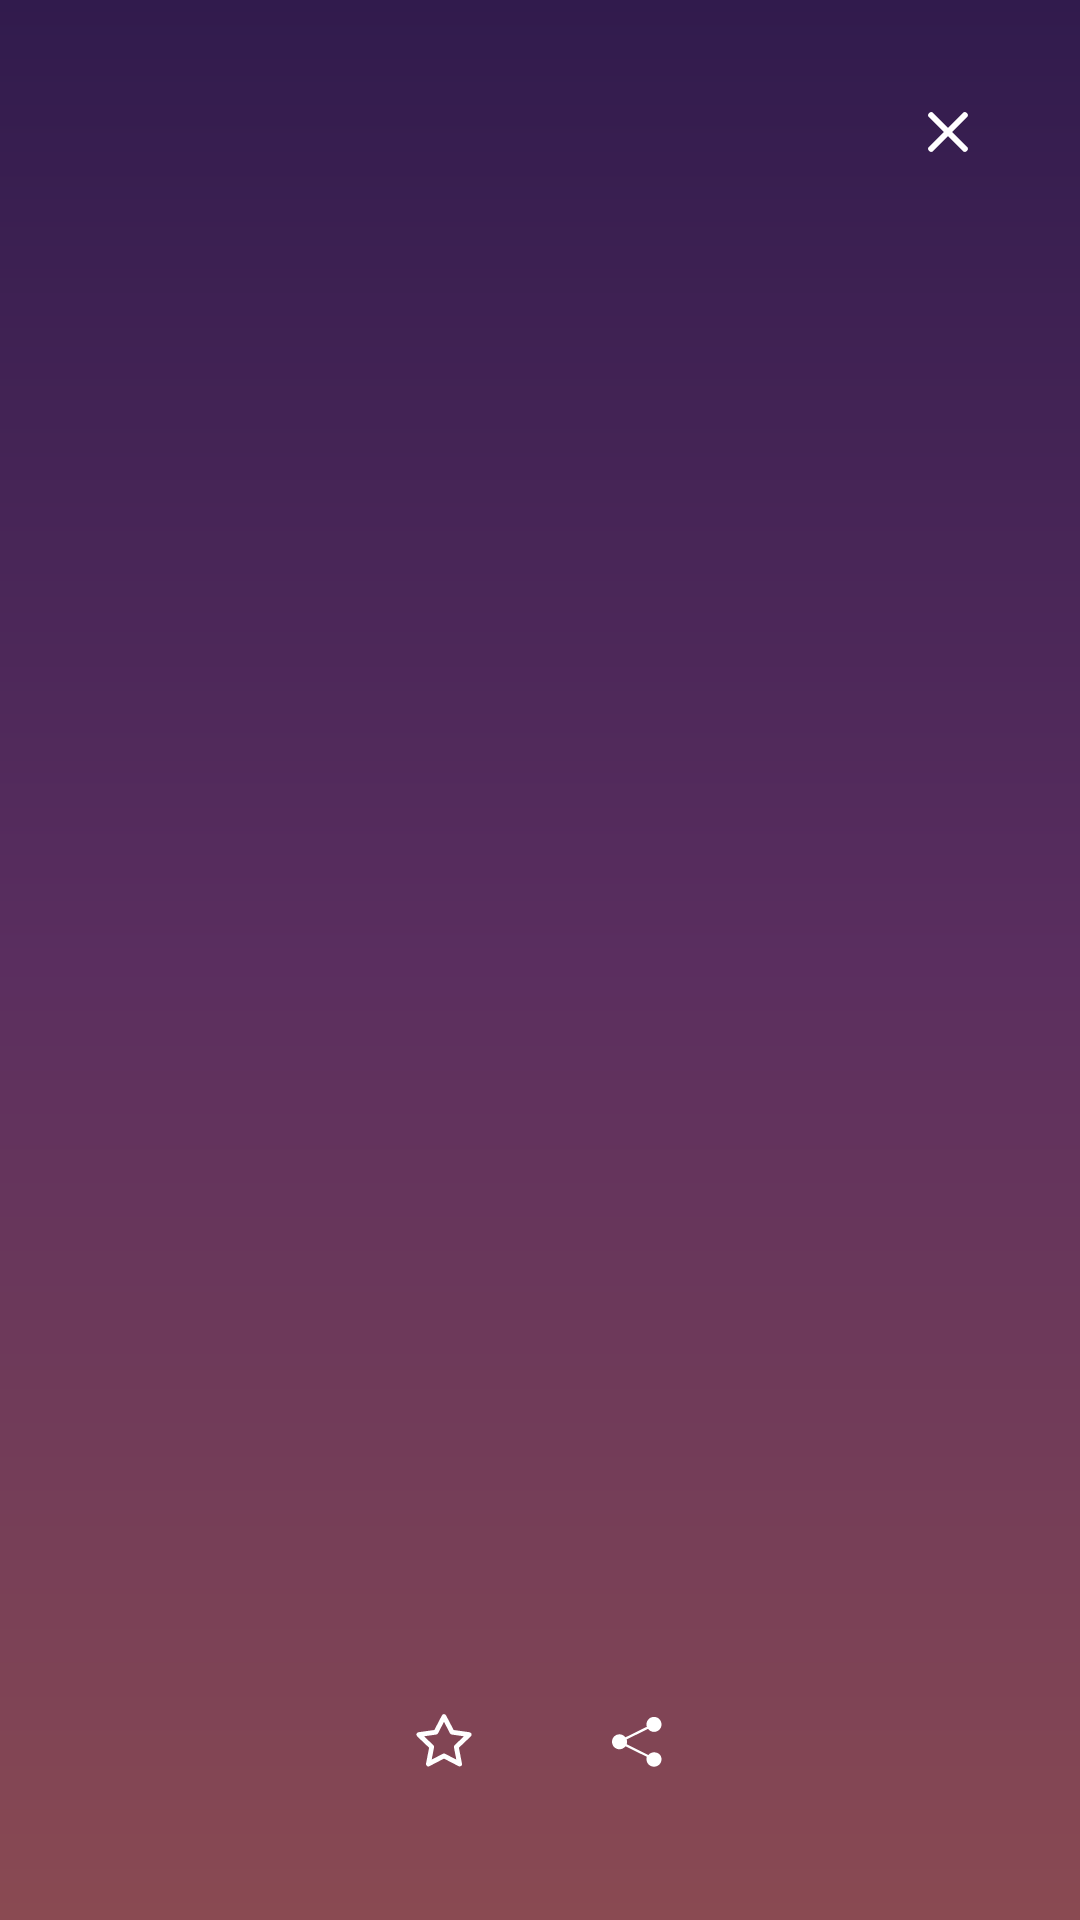

Icon bounding boxes for this 1080×1920 phone screenshot, format BBox(x1, y1, x2, y2):
Cerrar: BBox(928, 112, 968, 152)
Compartir: BBox(612, 1717, 662, 1767)
Favorito: BBox(416, 1714, 472, 1767)
